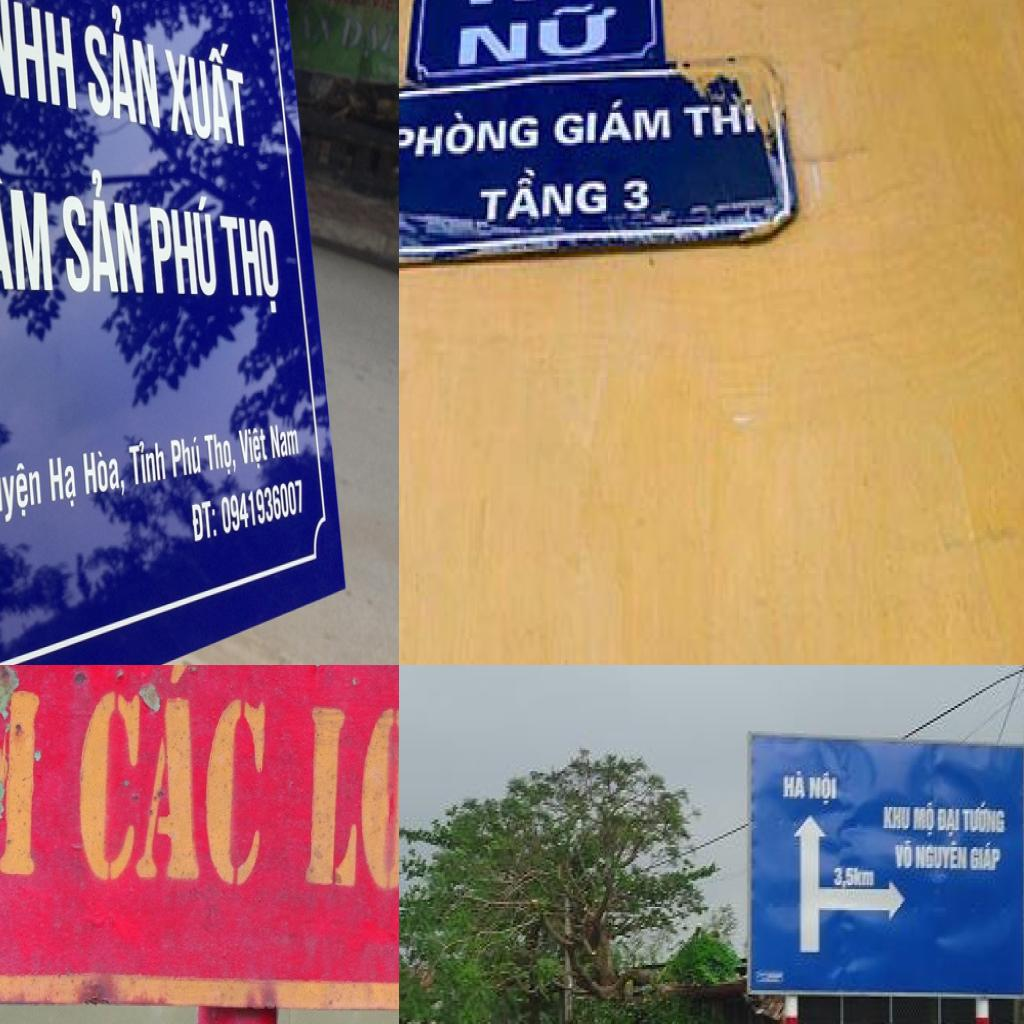text: (73, 665, 272, 889), (303, 701, 399, 954), (54, 169, 148, 300), (454, 2, 624, 70), (81, 0, 163, 140), (165, 30, 251, 154), (475, 159, 612, 233), (399, 99, 544, 164), (0, 0, 80, 115), (0, 155, 58, 300), (214, 205, 286, 316), (148, 190, 220, 300), (550, 94, 676, 154), (0, 454, 49, 527), (684, 99, 760, 146), (80, 440, 130, 501), (44, 446, 84, 514), (124, 434, 170, 490), (182, 489, 220, 548), (268, 416, 306, 468), (203, 427, 240, 480), (169, 429, 204, 483), (236, 422, 271, 475), (914, 839, 970, 872), (960, 798, 1008, 836), (968, 838, 1003, 874), (832, 864, 878, 891), (810, 769, 840, 809), (880, 798, 912, 834), (911, 800, 937, 840), (935, 805, 962, 841), (782, 769, 808, 805), (894, 839, 914, 870)
